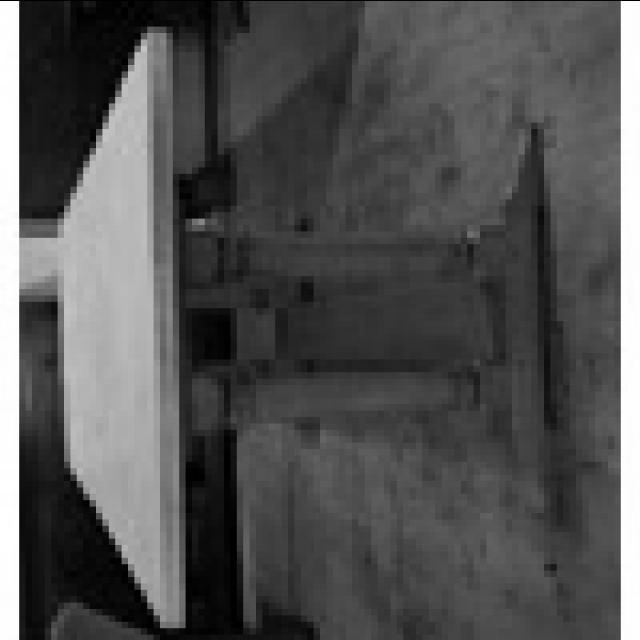table: (57, 28, 567, 625)
